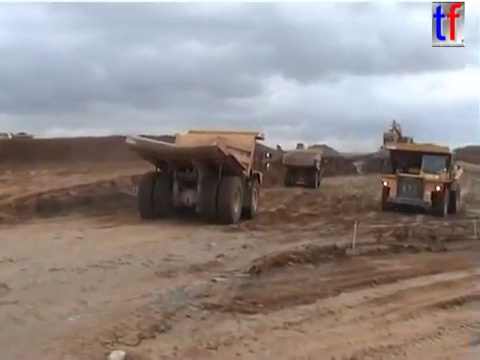excavator: (378, 118, 415, 154)
truck: (123, 127, 273, 225), (377, 140, 464, 219), (280, 147, 328, 189)
